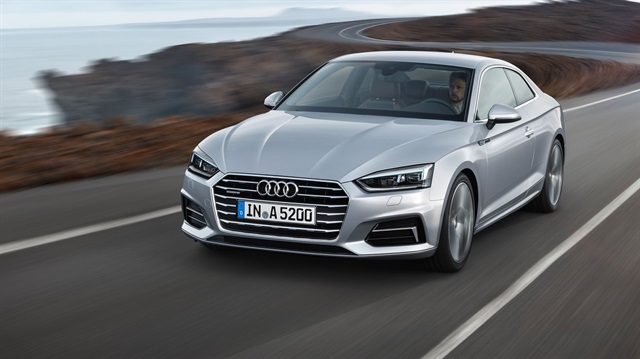audi: (252, 177, 300, 204)
